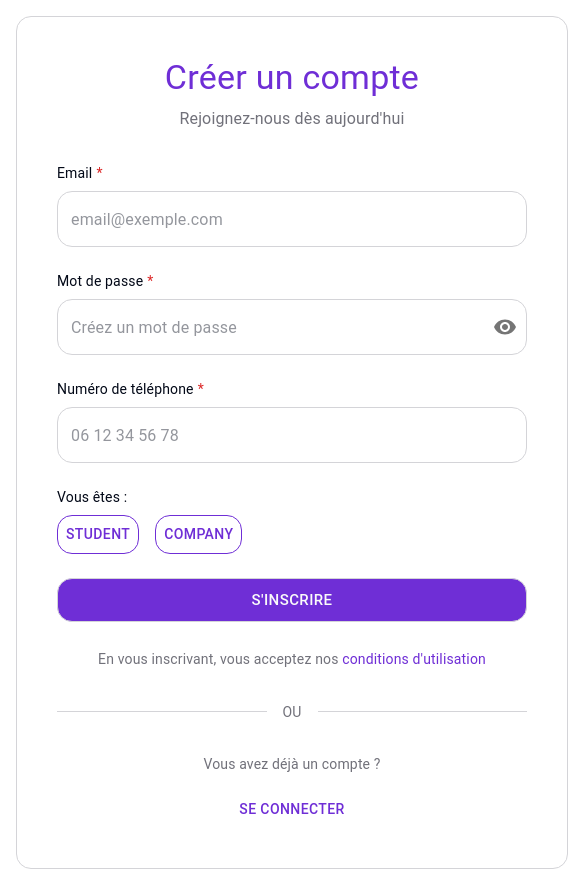
Test: RegisterPage › Form Validation › should show an error message if fields are empty on submission
Click the button "S'inscrire": (292, 600) [57,578,527,622]
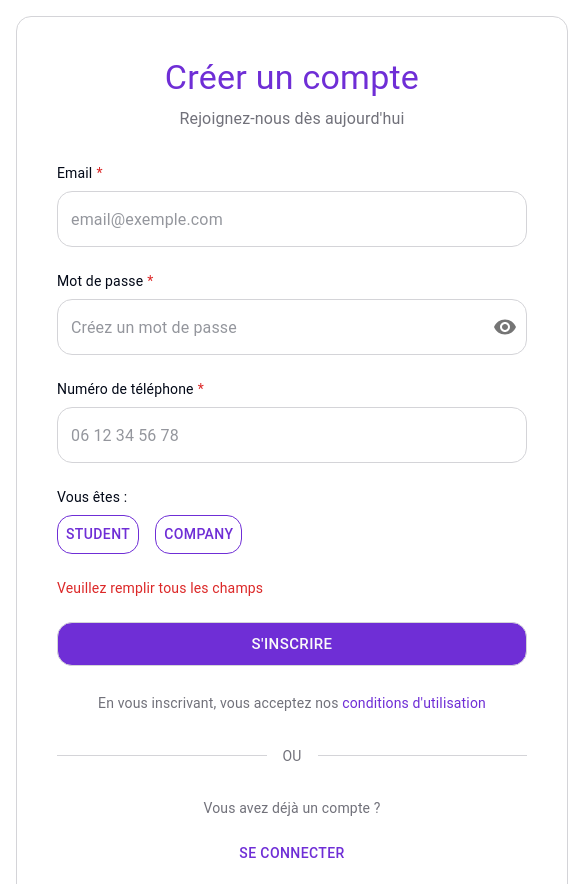
Check: the text "Veuillez remplir tous les champs" is shown, box [57,580,263,596]
